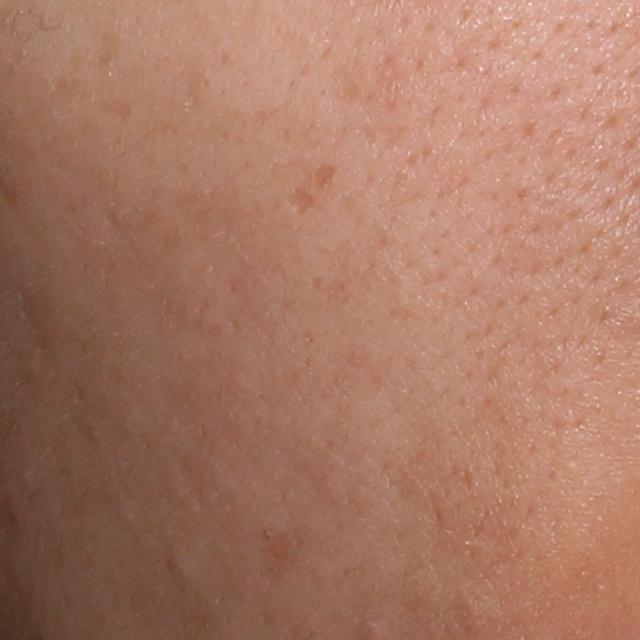atrophic_scar: (283, 185, 316, 217), (312, 163, 339, 194)
comedo: (168, 550, 197, 591)
